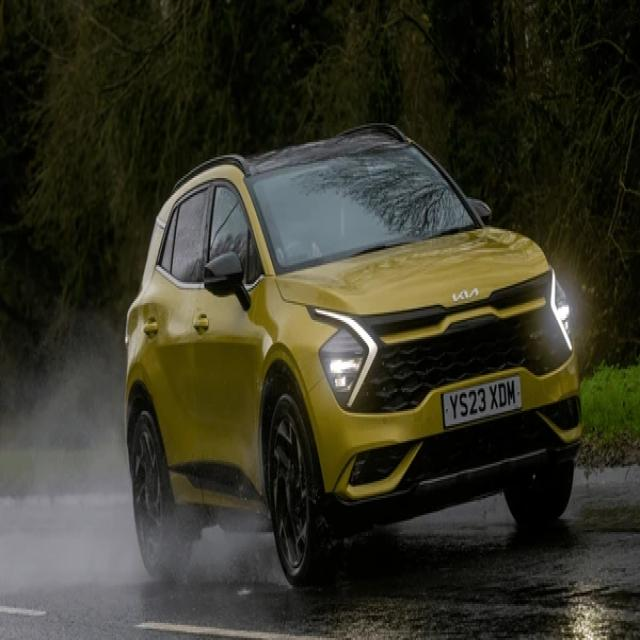kia: (452, 282, 481, 308)
